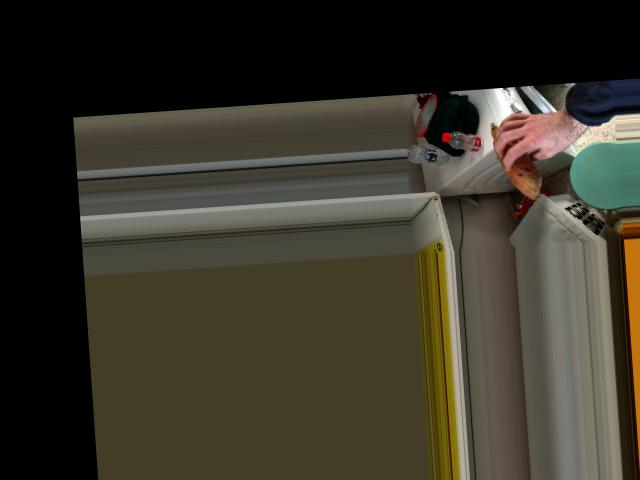sweet_potato: (490, 115, 542, 199)
